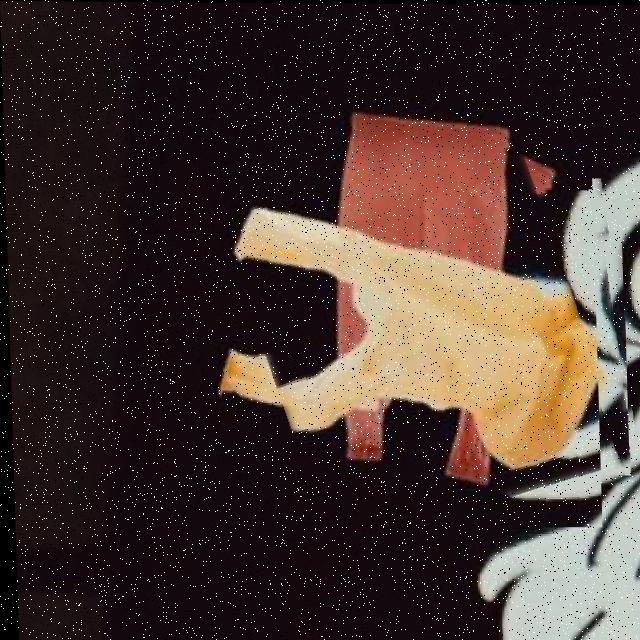litter: (211, 39, 599, 525), (186, 185, 628, 473)
